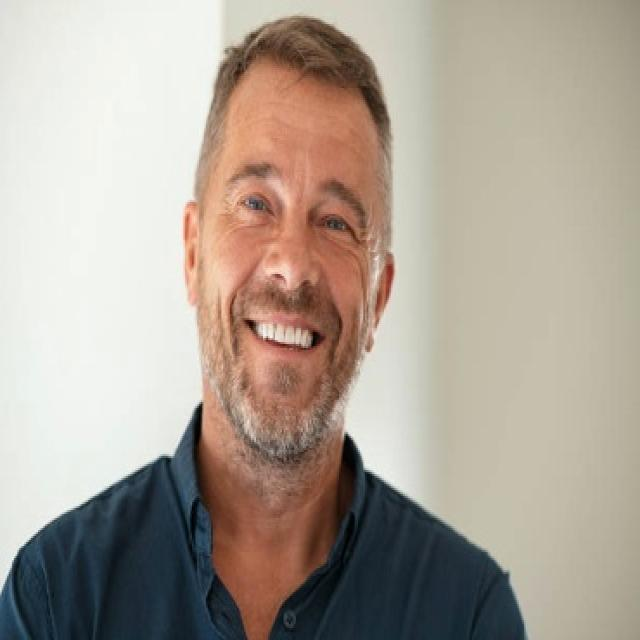adult: (0, 18, 524, 640)
